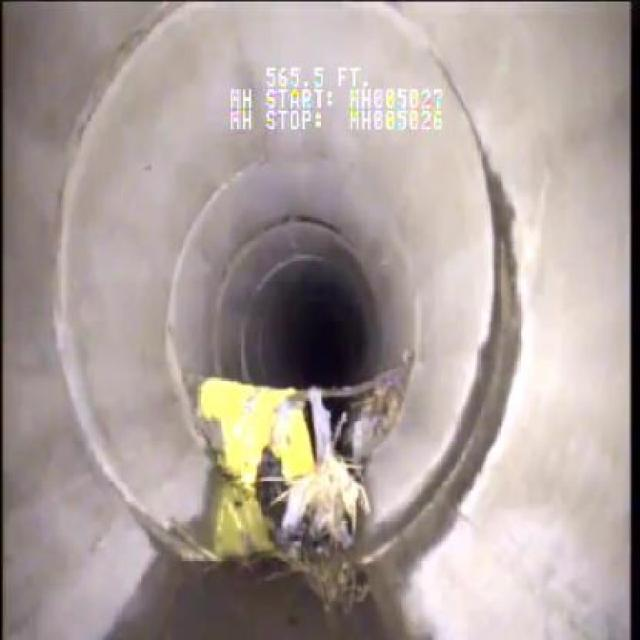Obstacle: (190, 351, 378, 551)
